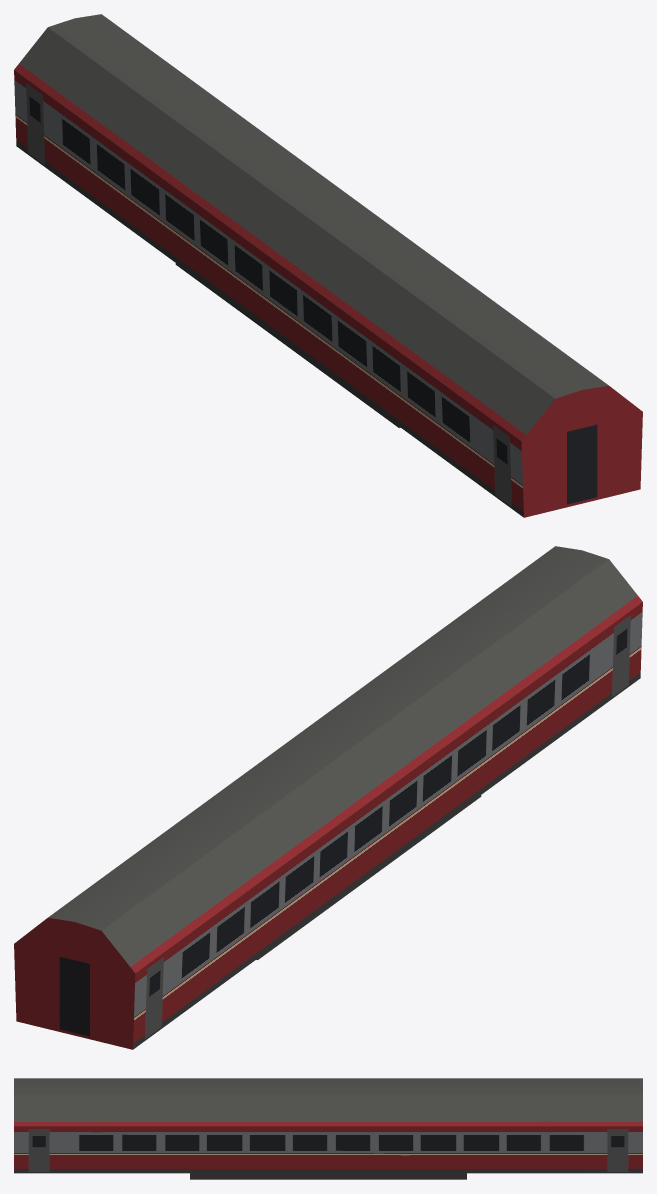
Rendered from lhb_coach_lod2.glb.
The picture shows the model from 3 angles, top to bottom: view 1: azimuth 30°, elevation 25°; view 2: azimuth 150°, elevation 25°; view 3: azimuth 270°, elevation 25°; orthographic projection. The views are drawn at different scales.
Parts seen in each view (by area): view 1: body; view 2: body; view 3: body.
Boxes of the visible parts, <box> form: body: <box>14,14,642,517</box>; body: <box>14,546,642,1049</box>; body: <box>14,1078,642,1179</box>.
Bounding box in the file's own units: 3.25 × 3.38 × 23.54.
2 materials, 2 textured.
